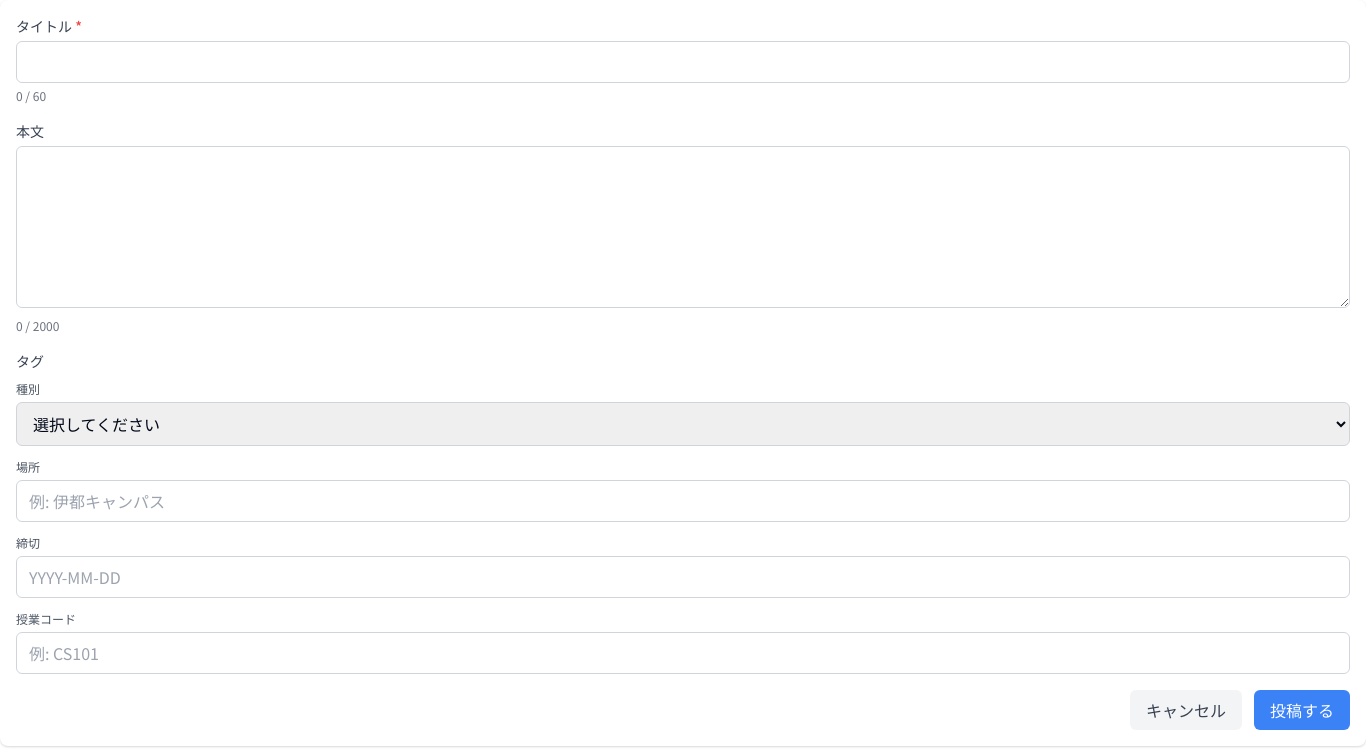
Test case: ThreadForm › shows error message on submission failure
Type "Test Title" into the field labelled "タイトル *" at x=683, y=62, box [16,41,1350,83]
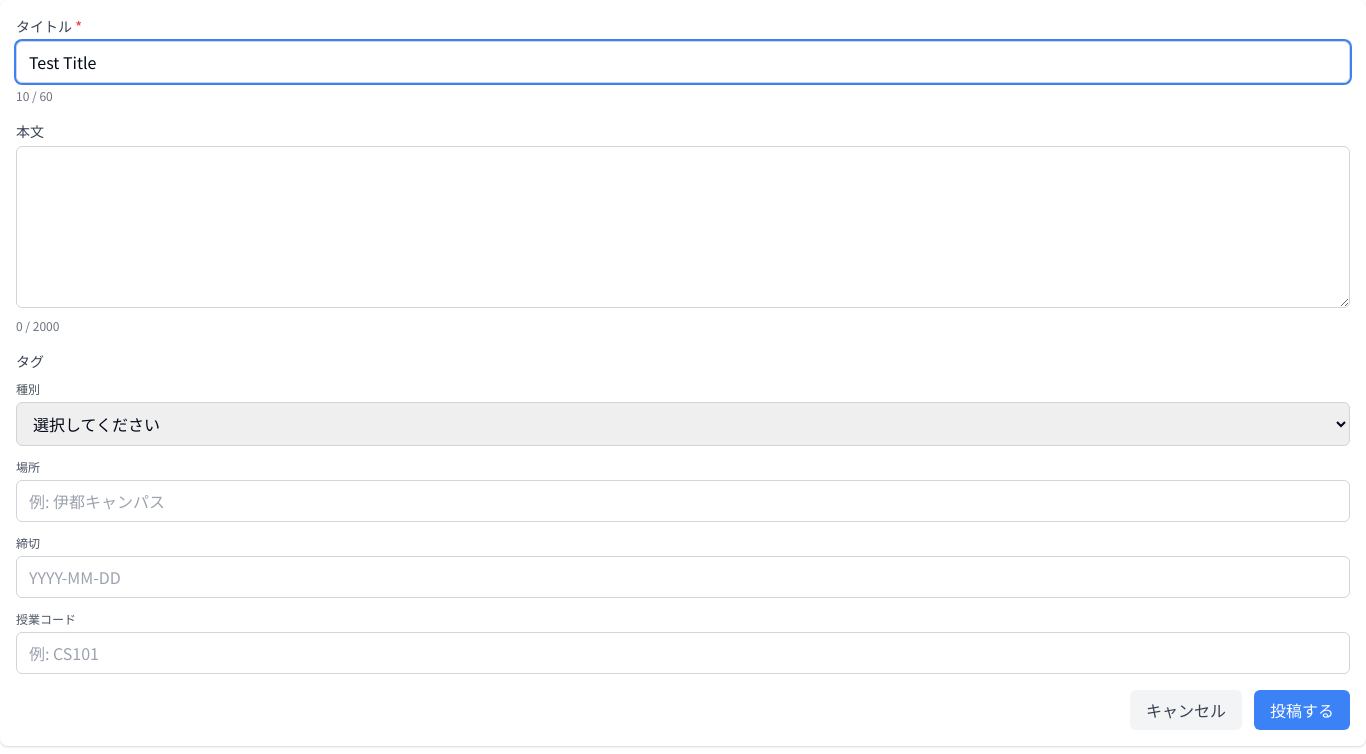
Click the button "投稿する" at x=1302, y=710, box [1254,690,1350,730]
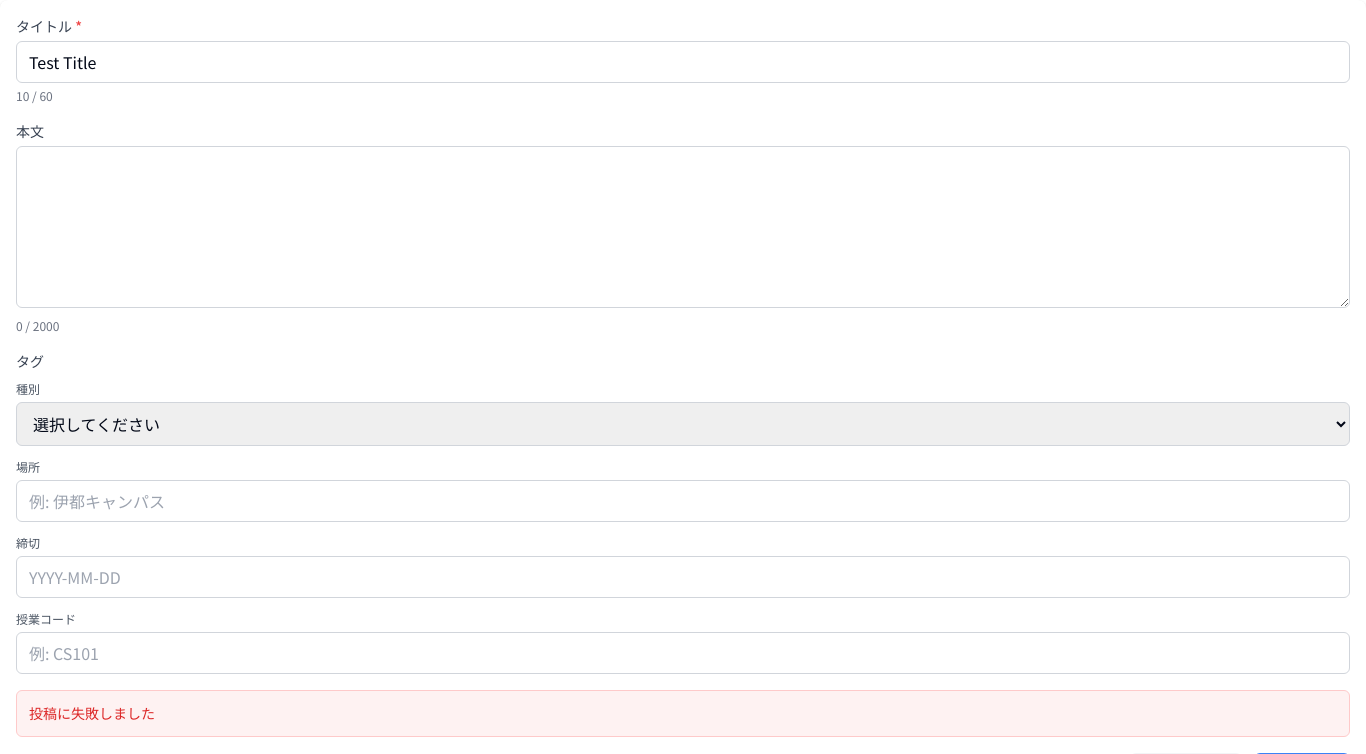
Expected: the text "投稿に失敗しました" is shown, [29,703,155,723]
